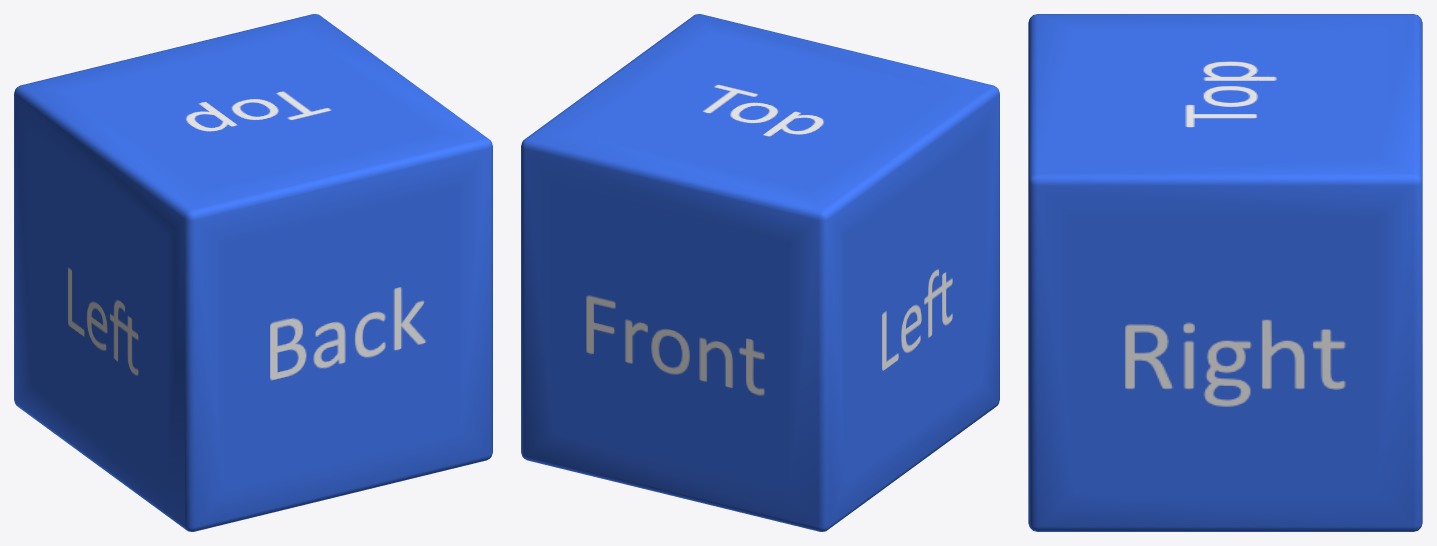
3 views of the same model, side by side, from view 1: azimuth 30°, elevation 25°; view 2: azimuth 150°, elevation 25°; view 3: azimuth 270°, elevation 25° (orthographic). The views are drawn at different scales.
Parts seen in each view (by area): view 1: Cube; view 2: Cube; view 3: Cube.
Boxes of the visible parts, x1,y1,x2,y2 form: Cube: [14, 14, 492, 531]; Cube: [521, 14, 999, 531]; Cube: [1028, 14, 1422, 531].
Size of the model in its own units: 2 by 2 by 2.
1 material, 1 textured.
